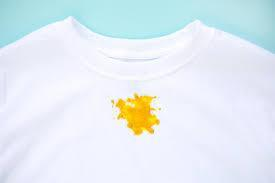lipstick: (109, 95, 161, 135)
